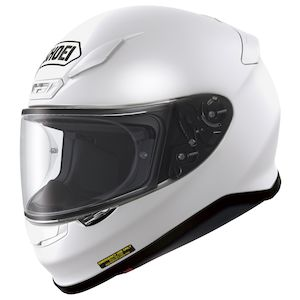with_helmet: (13, 3, 295, 295)
